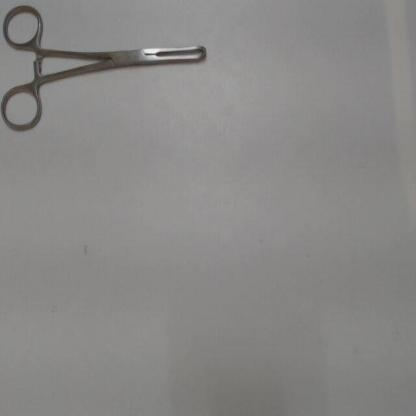Allis Tissue Forceps: (0, 3, 217, 143)
